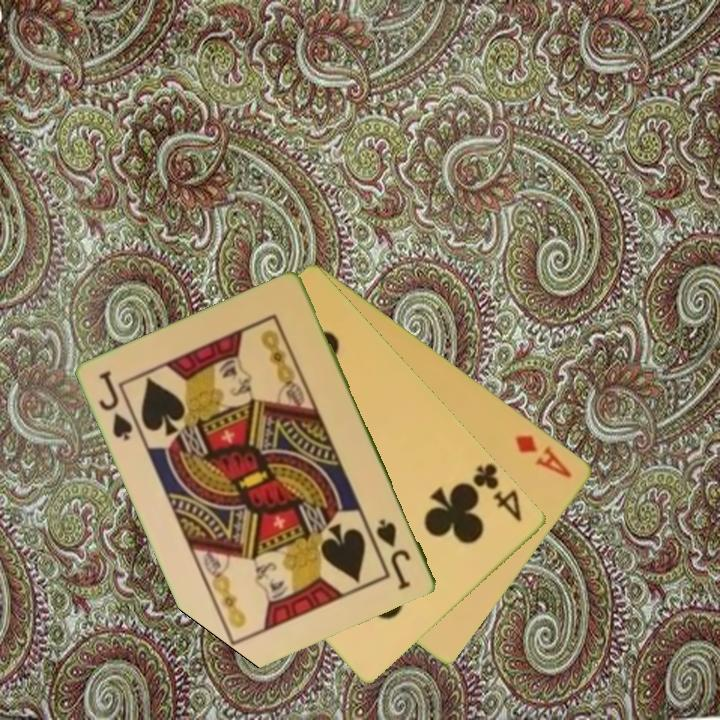4c: (469, 459, 526, 525)
Ad: (512, 431, 576, 481)
Js: (95, 367, 137, 444), (373, 516, 415, 592)
